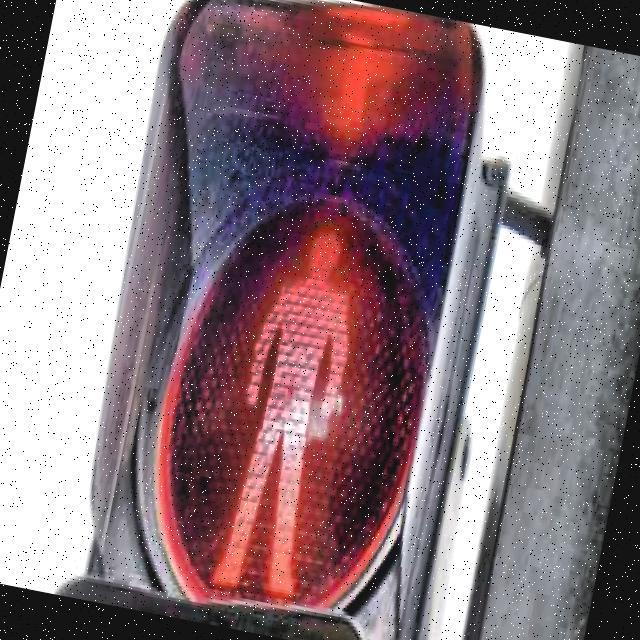red_light: (200, 214, 376, 606)
